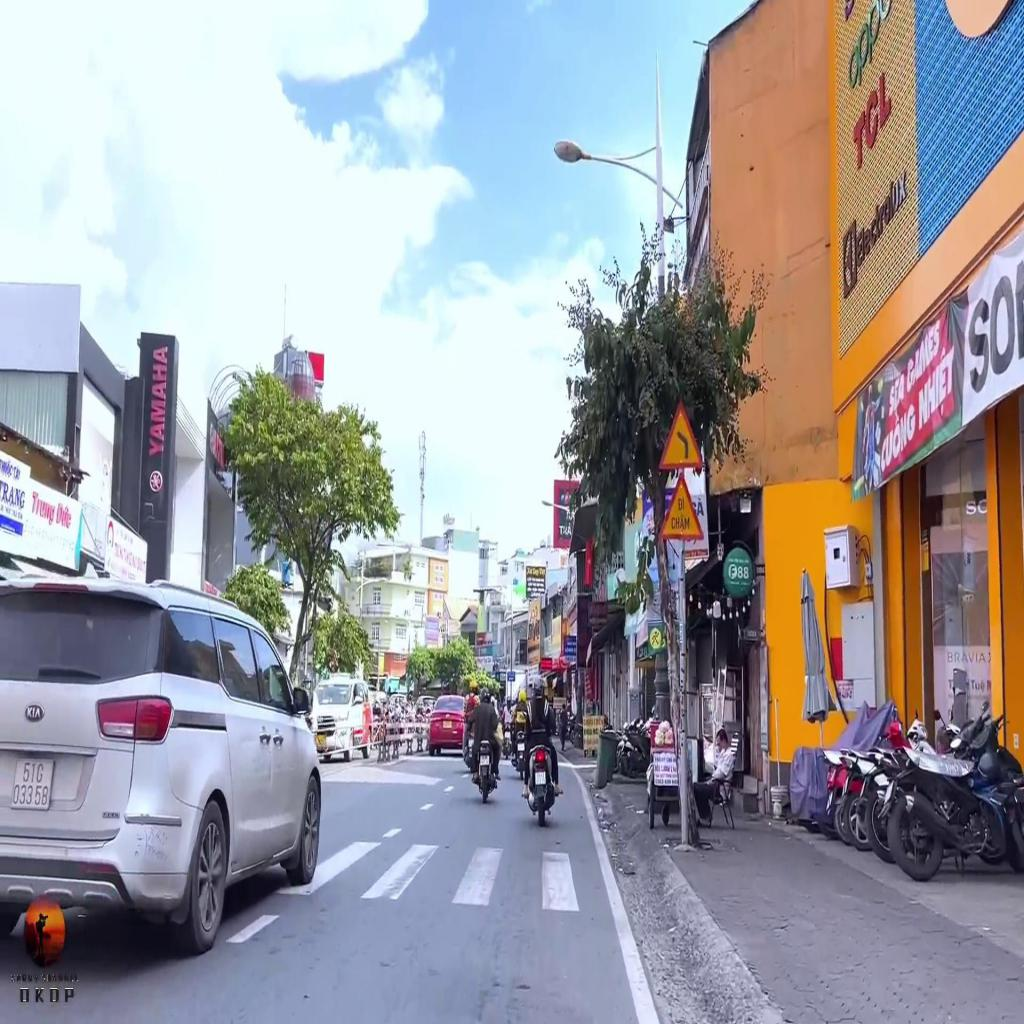cho_ngoat_nguy_hiem_ben_trai: (658, 398, 704, 468)
di_cham: (658, 473, 704, 543)
